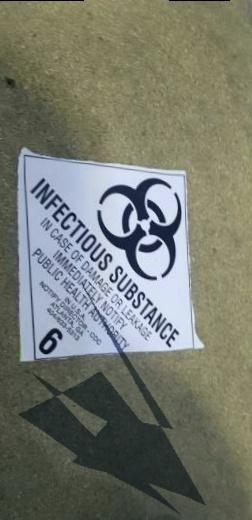infectious-substance: (21, 158, 195, 368)
